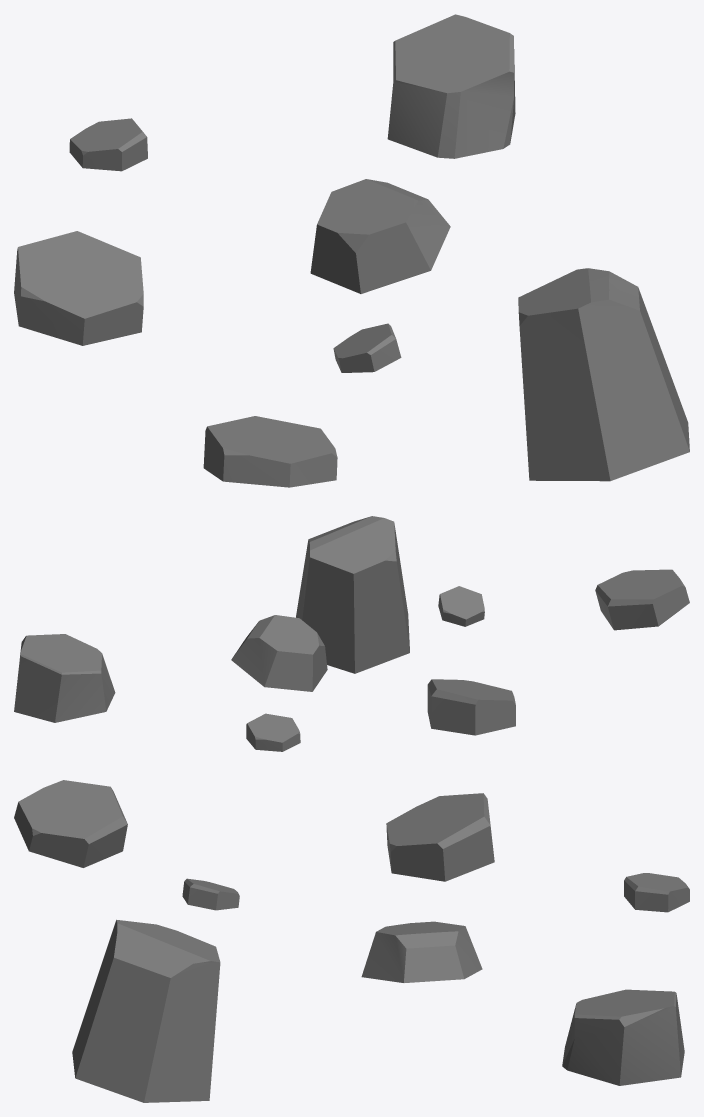
Rendered from rock_formation3.fbx.
3 renders of one model, top to bottom at view 1: azimuth 30°, elevation 25°; view 2: azimuth 150°, elevation 25°; view 3: azimuth 270°, elevation 25°, orthographic. The views are drawn at different scales.
Visible parts, largest first — view 1: rock; view 2: rock; view 3: rock.
Boxes of the visible parts, left/top/right/bottom form: rock: left=14, top=14, right=689, bottom=487; rock: left=14, top=516, right=689, bottom=751; rock: left=14, top=780, right=689, bottom=1102.
Bounding box in the file's own units: 1641 × 460 × 1816.
